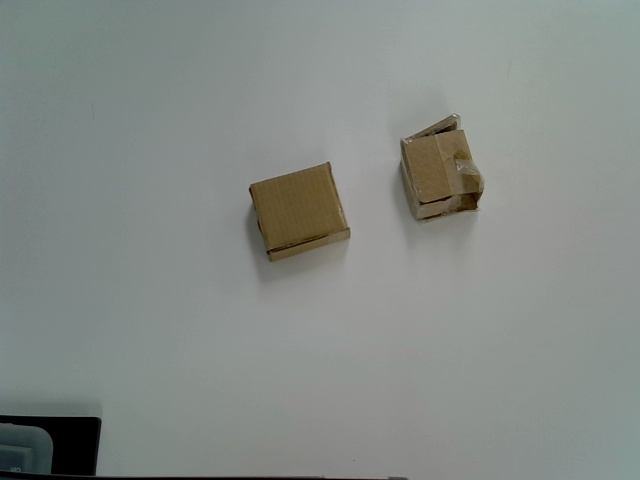defect: (399, 114, 483, 223)
normal: (249, 161, 353, 262)
